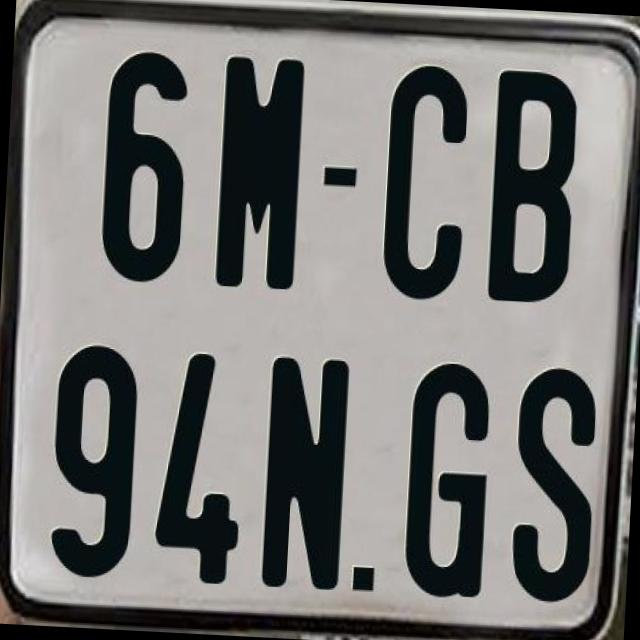4: (153, 347, 255, 588)
6: (96, 46, 188, 290)
9: (45, 342, 144, 581)
B: (488, 68, 585, 311)
C: (380, 64, 476, 305)
G: (398, 358, 496, 606)
M: (212, 50, 304, 288)
N: (260, 351, 354, 586)
S: (505, 366, 603, 611)
